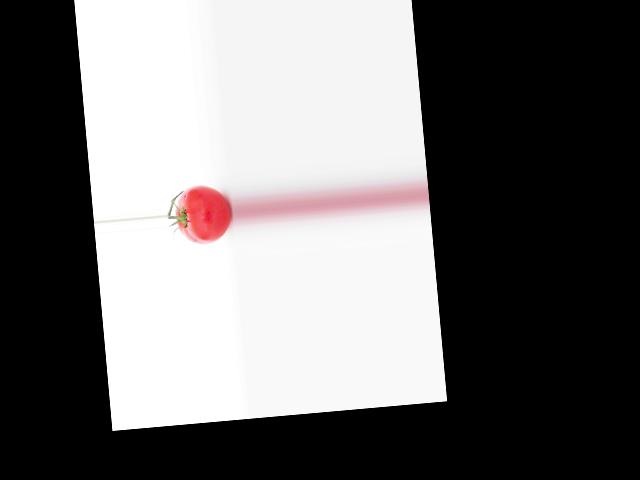tomato: (173, 183, 233, 247)
